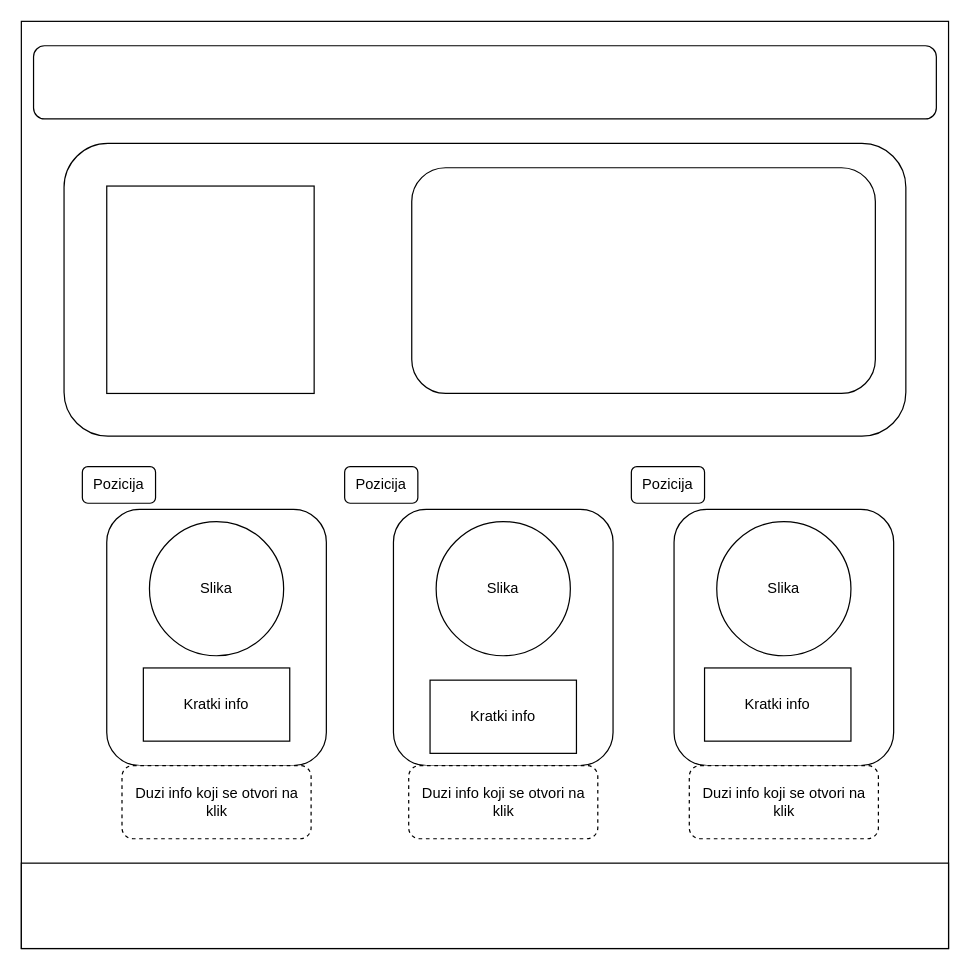
Some shapes in this 970 by 970 pixel diagram are drawn without their labels. Here are the shapes that lost their labels. From the top down, the box of each, then its label:
(32, 45, 936, 119): Isti navbar ko na home
(106, 185, 314, 393): Neki tekst about us kad je firma nastala i slicno
(411, 167, 875, 393): Neka slika broda
(20, 862, 949, 949): Footer
